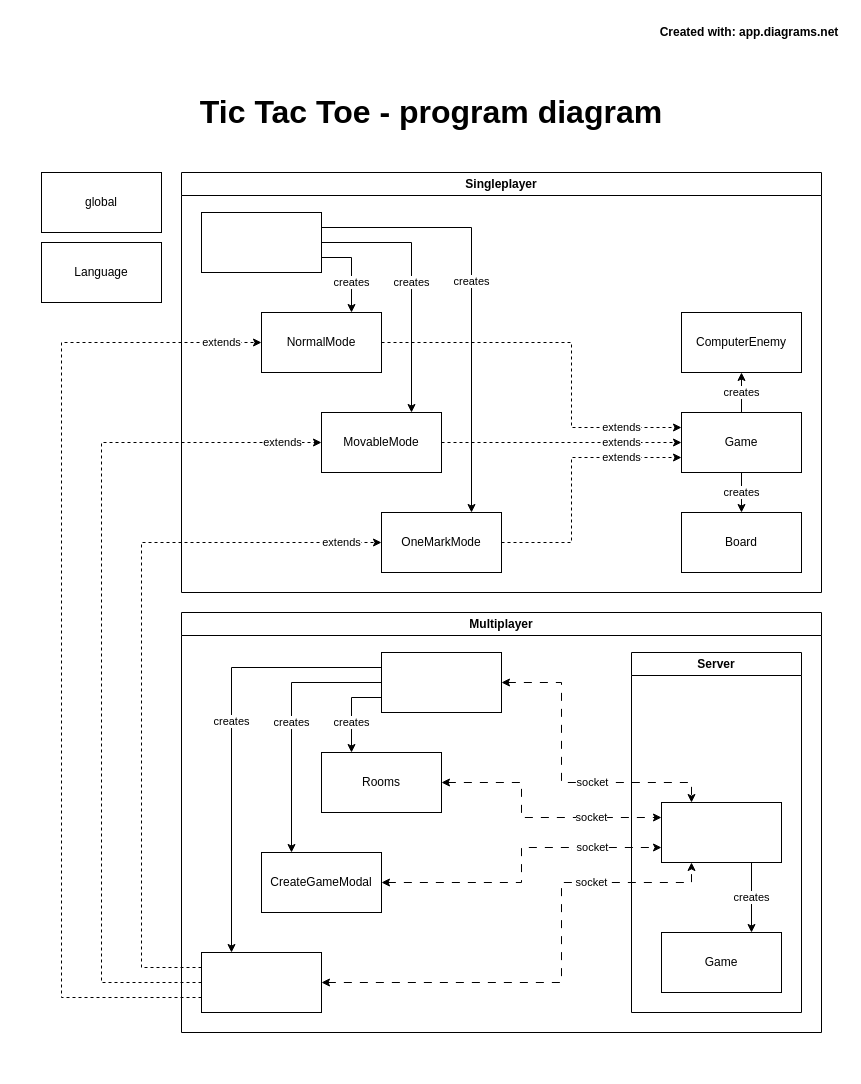
The diagram is 861 pixels wide and 1084 high, and some of its shapes have lost their labels. Here are the shapes that lost their labels. From the top down, the centre of each, then its label:
point 261,242: Menu
point 441,682: Lobby
point 721,832: app
point 261,982: MultiplayerGame
